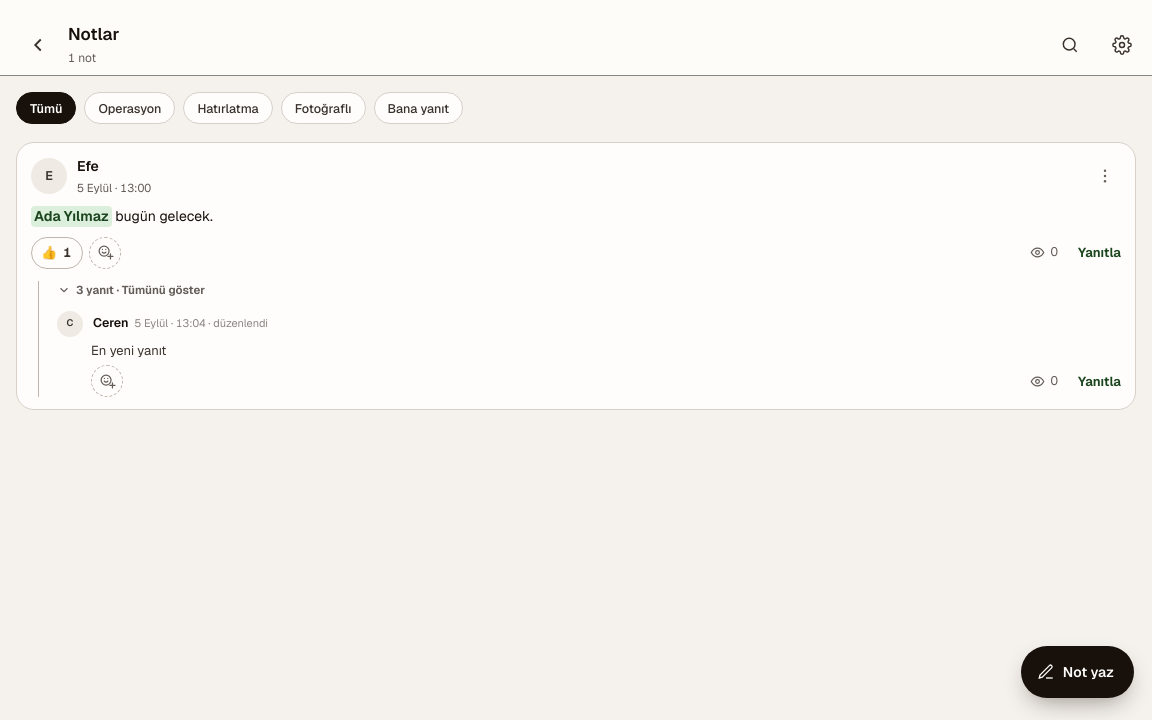
Mobil notlar › çoklu yanıtları en güncel yanıt dışında daraltır ve istenince açar
Expected: the text "En yeni yanıt" is shown, [91,342,166,358]
Expected: the text "İlk yanıt" is not shown
Click the button "3 yanıt · Tümünü göster" at (131, 290), box [57,276,205,302]
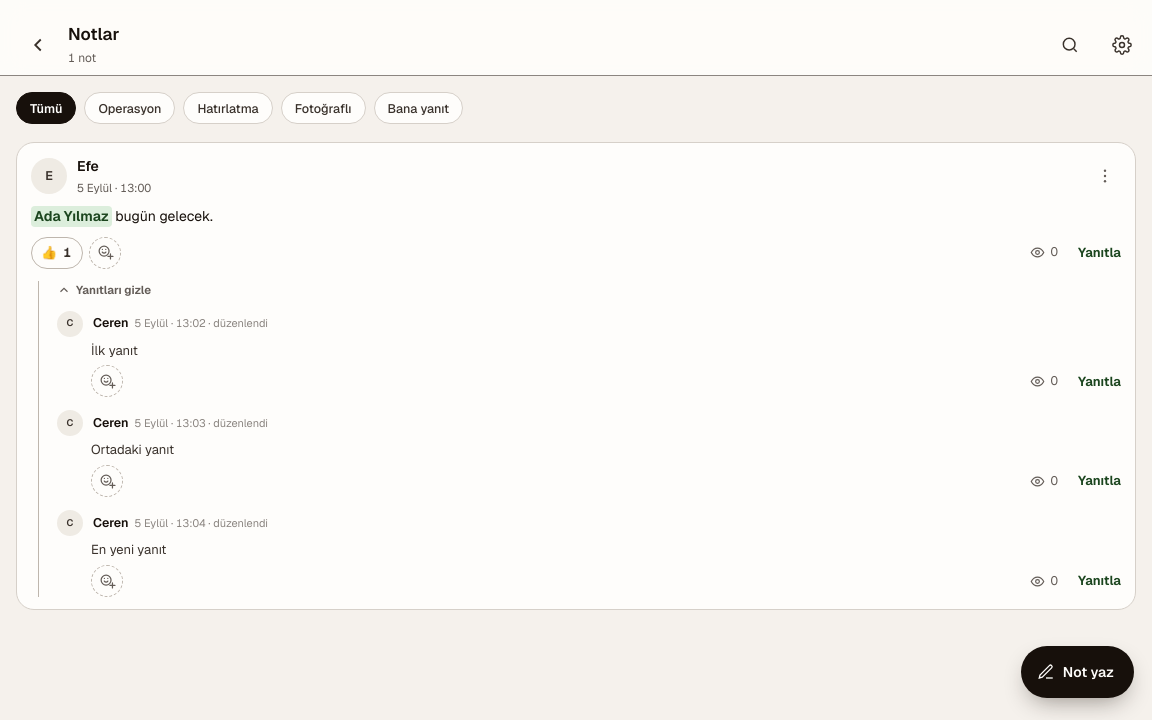
Result: the text "İlk yanıt" is shown at [91,342,138,358]
Result: the text "Ortadaki yanıt" is shown at [91,441,174,458]
Result: the button "Yanıtları gizle" is expanded at [57,276,151,302]
